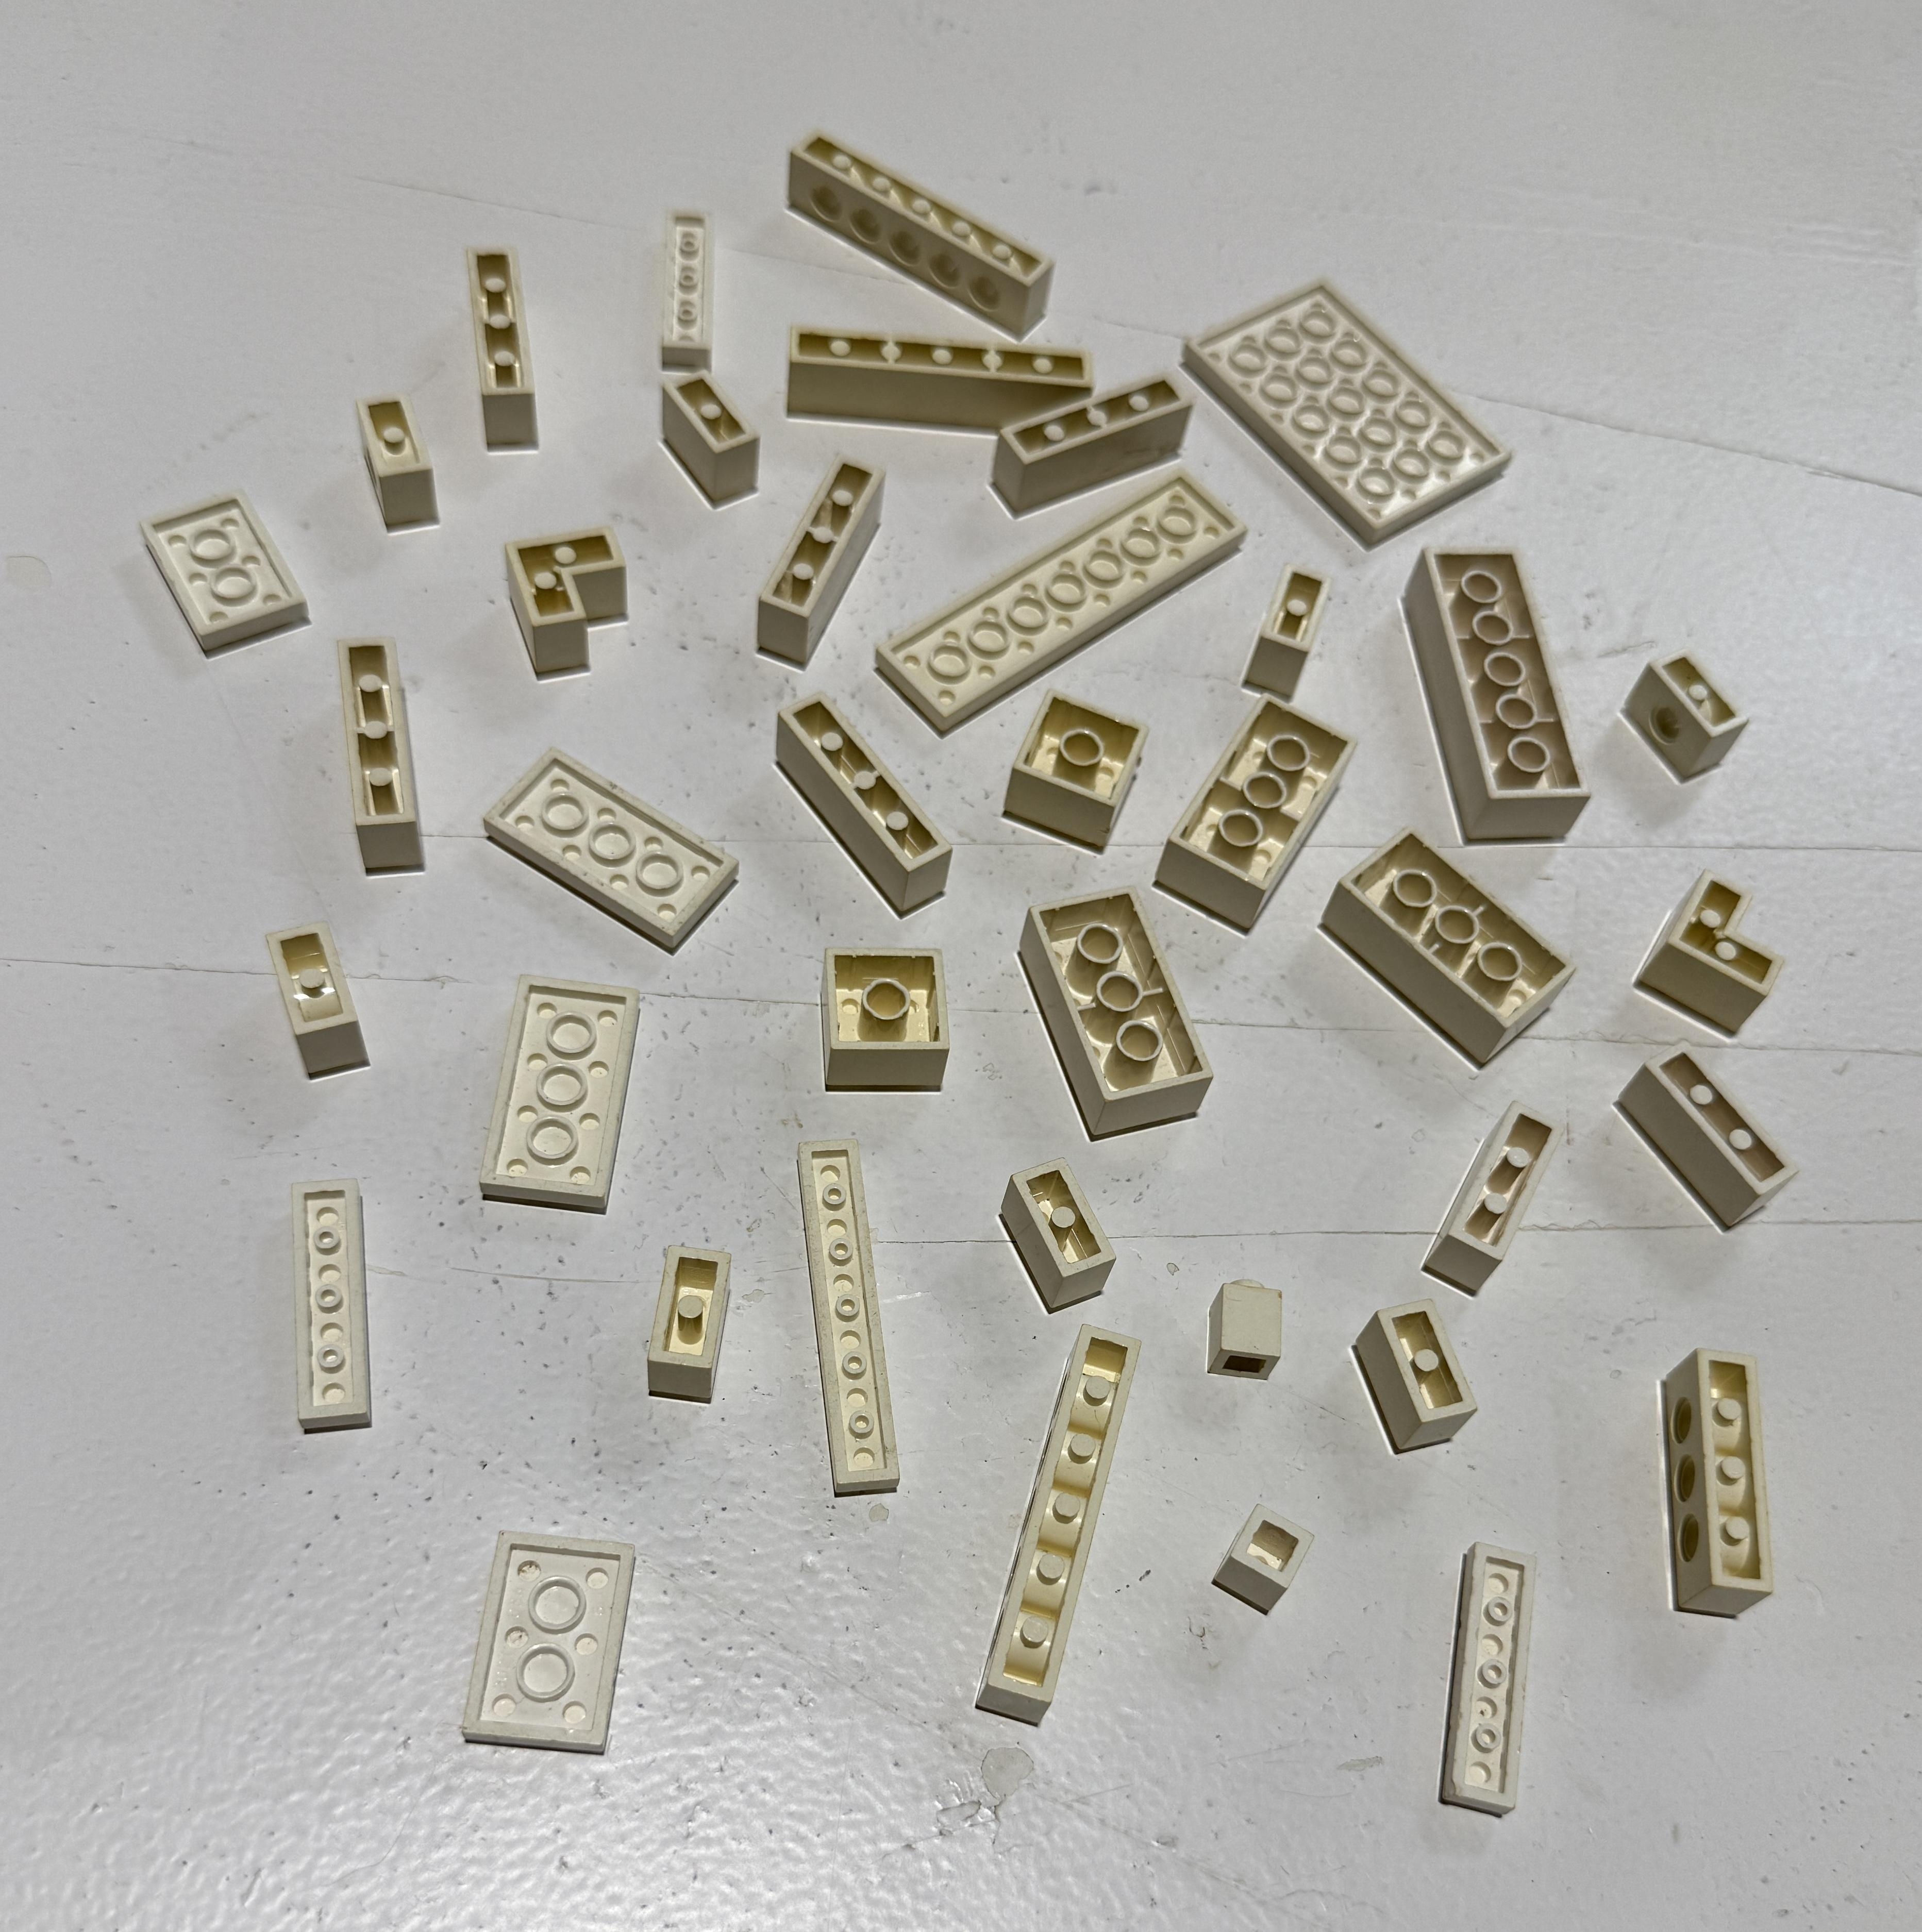brick_1x1: (1199, 1485, 1327, 1642), (1188, 1269, 1311, 1409)
brick_1x2: (954, 1151, 1135, 1327), (1600, 621, 1765, 806), (1334, 1281, 1491, 1475), (627, 331, 780, 528), (250, 897, 387, 1114), (329, 364, 458, 570), (627, 1218, 755, 1418), (1227, 542, 1348, 725)
brick_1x3: (1605, 1021, 1823, 1292), (1399, 1079, 1574, 1290)
brick_1x4: (753, 676, 987, 922), (1647, 1328, 1816, 1650), (973, 354, 1209, 521), (745, 449, 899, 677), (320, 619, 445, 876), (449, 222, 567, 486)
brick_2x2: (970, 670, 1162, 867), (789, 936, 966, 1101)
brick_2x4: (1304, 820, 1568, 1087), (1000, 869, 1223, 1163), (1139, 692, 1364, 954)
